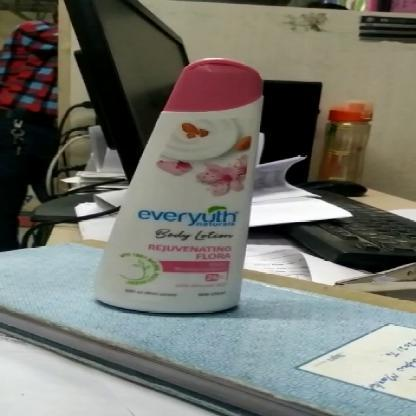Everyuth Naturals Body Lotion Rejuvenating Flora 200ml: (92, 55, 268, 316)
